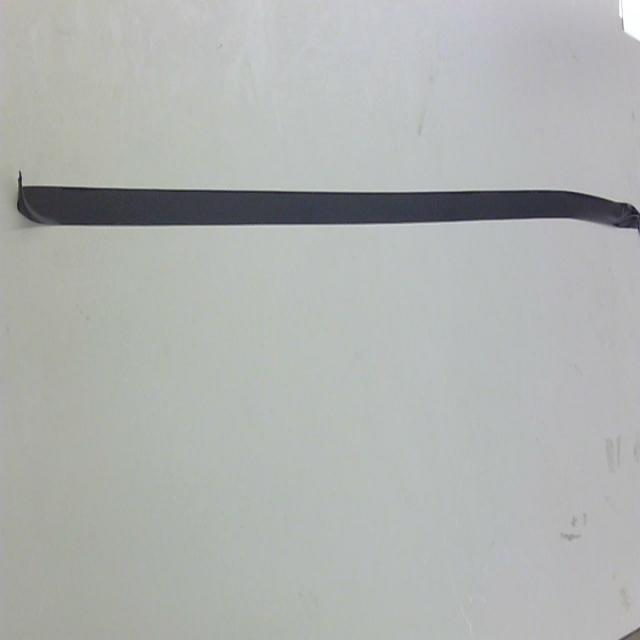tape: (8, 136, 640, 266)
